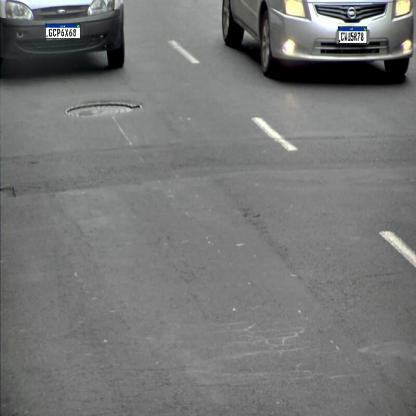PlacaM: (45, 23, 81, 39), (338, 26, 367, 44)
